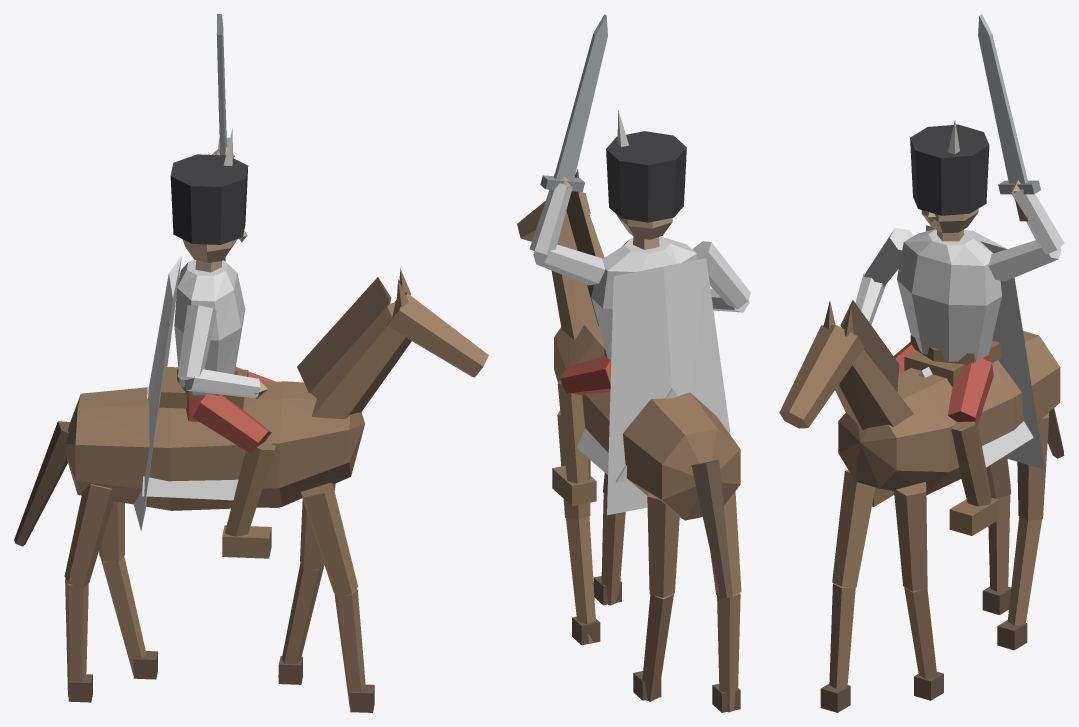
Rendered from hussar.glb.
3 renders of one model, left to right at view 1: azimuth 30°, elevation 25°; view 2: azimuth 150°, elevation 25°; view 3: azimuth 270°, elevation 25°, orthographic.
Parts seen in each view (by area): view 1: LOD0; view 2: LOD0; view 3: LOD0.
Part boxes in pixels (x1,y1,x2,y2): LOD0: [14, 14, 488, 712]; LOD0: [517, 14, 750, 712]; LOD0: [779, 14, 1064, 712].
Size of what is drawn, in the model's own units: 0.9264 by 1.7 by 0.667.
